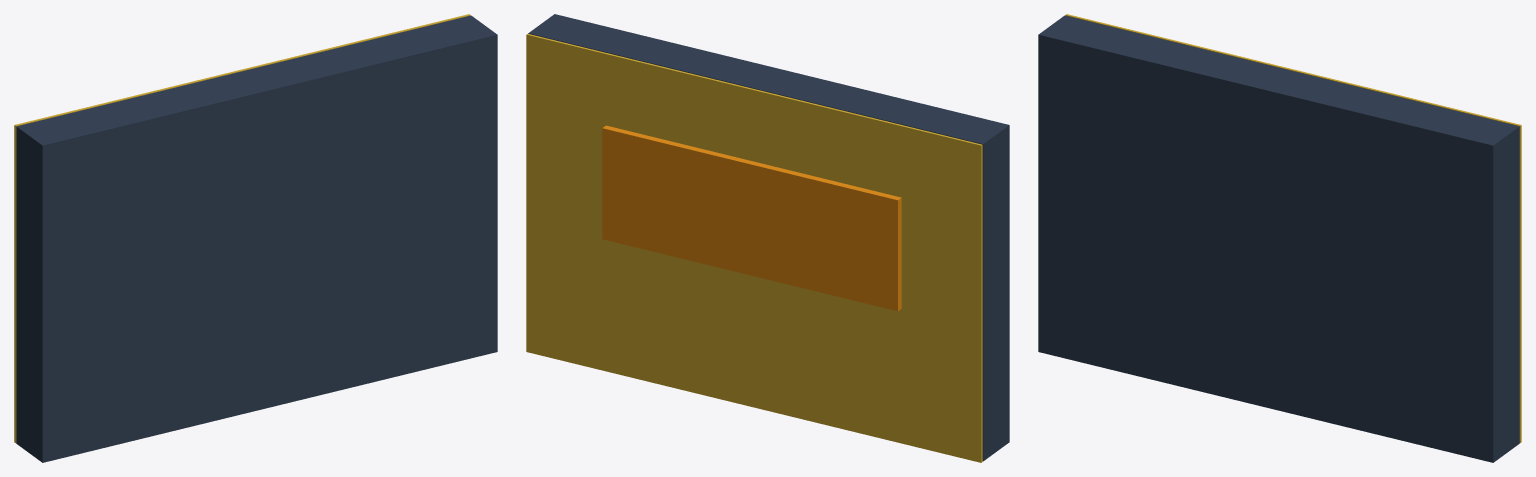
File: bảng hiệu xinhan bạt 2 mặt 80 x 120.obj
The picture shows the model from 3 angles, left to right: view 1: azimuth 30°, elevation 25°; view 2: azimuth 150°, elevation 25°; view 3: azimuth 330°, elevation 25°; orthographic projection.
Visible parts, largest first — view 1: Khung_Ket_Cau, Vien_Kim_Loai_Nẹp; view 2: Vien_Kim_Loai_Nẹp, Chu_Noi_3D_Logo, Khung_Ket_Cau; view 3: Khung_Ket_Cau, Vien_Kim_Loai_Nẹp.
Boxes of the visible parts, <box> form: Khung_Ket_Cau: <box>16,15,497,462</box>; Vien_Kim_Loai_Nẹp: <box>14,14,470,442</box>; Vien_Kim_Loai_Nẹp: <box>526,34,982,462</box>; Chu_Noi_3D_Logo: <box>602,125,901,311</box>; Khung_Ket_Cau: <box>528,14,1009,461</box>; Khung_Ket_Cau: <box>1038,15,1519,462</box>; Vien_Kim_Loai_Nẹp: <box>1065,14,1521,442</box>.
Size of the model in its own units: 1.2 by 0.8 by 0.146.
